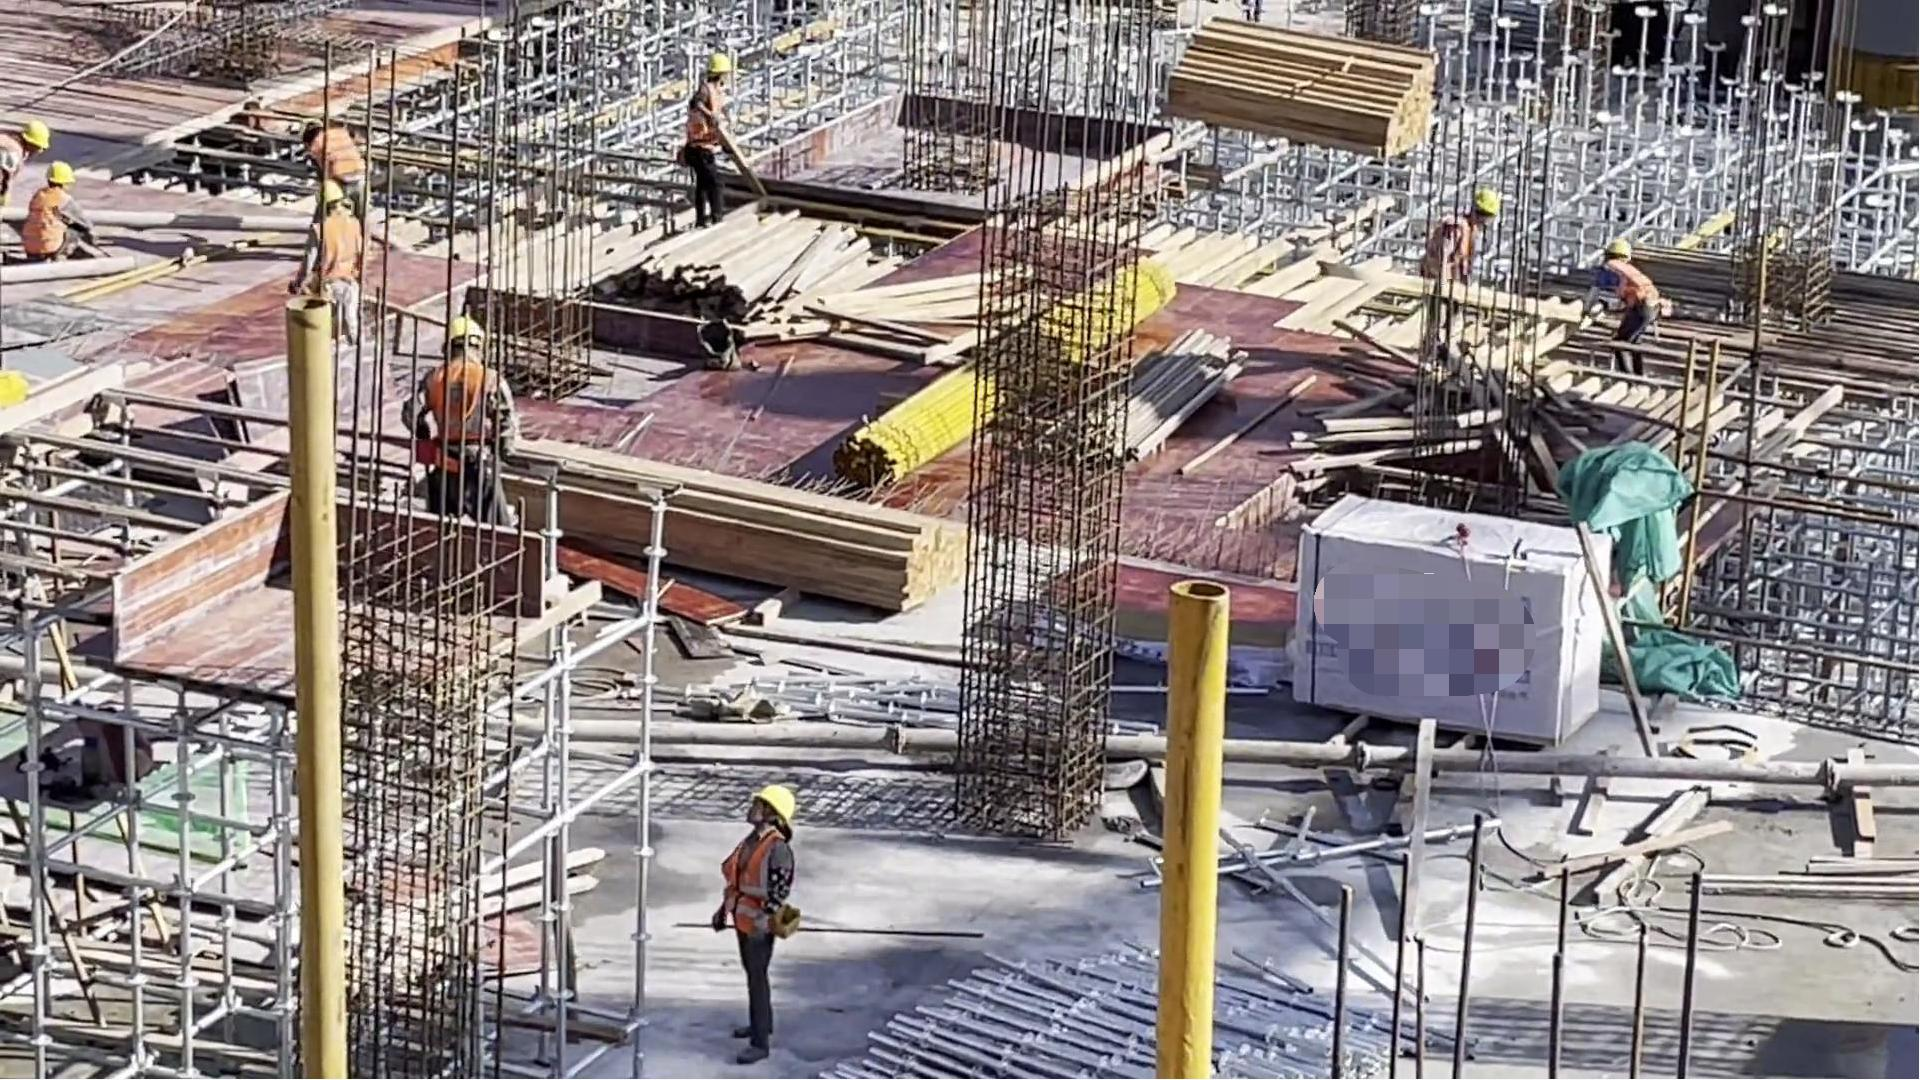helmet: (753, 786, 792, 826), (441, 317, 483, 341), (22, 118, 50, 148), (46, 161, 73, 185), (312, 181, 340, 203), (1474, 190, 1499, 214), (707, 53, 731, 74), (1607, 240, 1631, 258)
person: (406, 319, 527, 518), (717, 788, 793, 1066), (685, 56, 744, 231), (305, 188, 363, 345), (1598, 241, 1661, 343), (28, 166, 93, 261), (296, 120, 370, 203), (1428, 193, 1498, 281), (1, 123, 52, 206)
vest: (424, 368, 494, 466), (725, 841, 771, 938), (315, 216, 358, 288), (28, 187, 73, 253), (1606, 264, 1661, 316), (1432, 220, 1475, 280), (685, 91, 725, 149), (317, 130, 361, 183)
wood: (547, 449, 963, 604), (1154, 23, 1419, 169), (608, 212, 856, 356)
